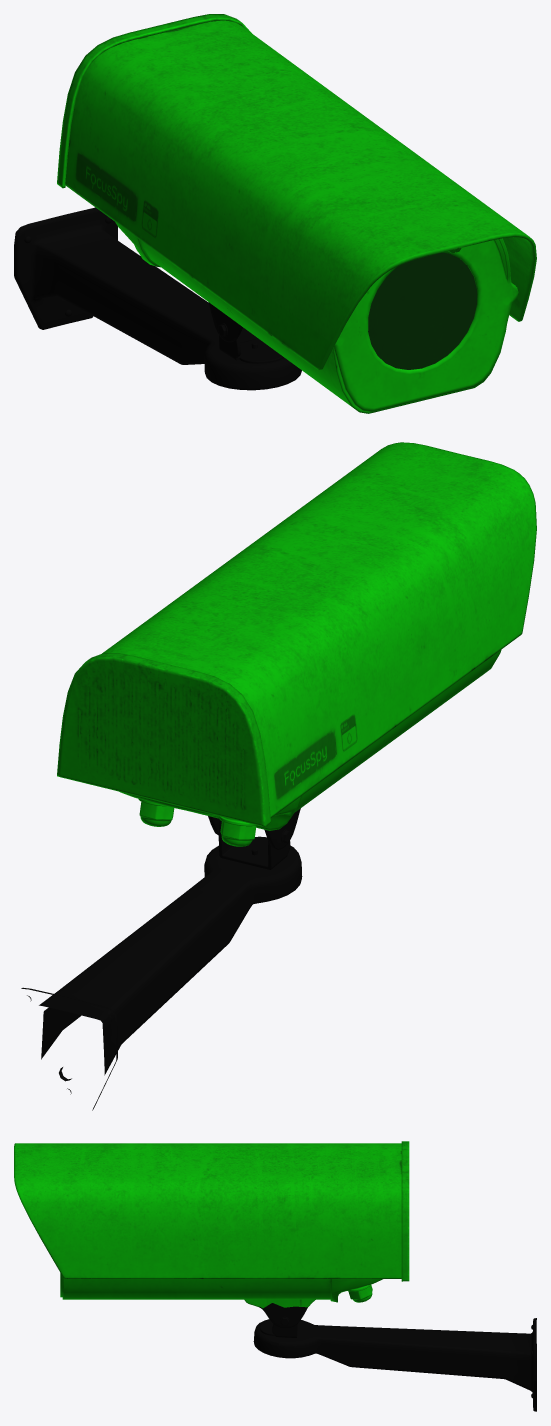
File: hero.glb
3 renders of one model, top to bottom at view 1: azimuth 30°, elevation 25°; view 2: azimuth 150°, elevation 25°; view 3: azimuth 270°, elevation 25°, orthographic. The views are drawn at different scales.
Parts seen in each view (by area): view 1: hero; view 2: hero; view 3: hero.
Boxes of the visible parts, bbox=[...] form: hero: bbox=[14, 14, 536, 413]; hero: bbox=[21, 442, 536, 1110]; hero: bbox=[14, 1141, 536, 1411].
Size of the model in its own units: 0.1696 by 0.286 by 0.5537.
Materials: 1 (1 with a texture image).
